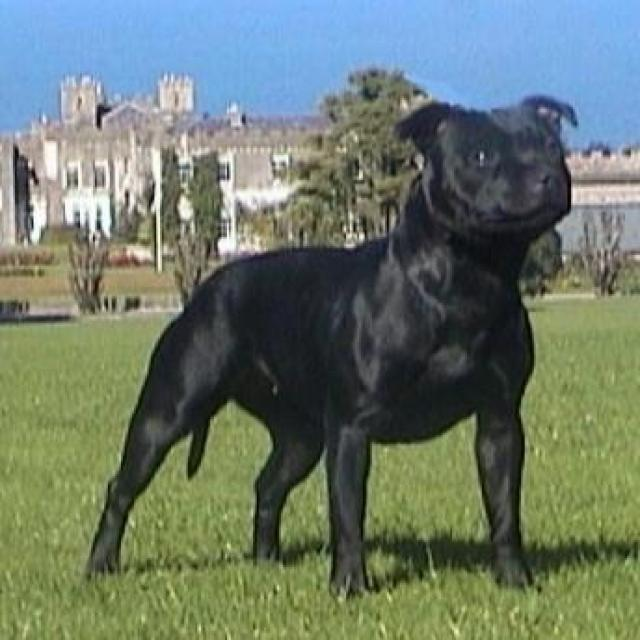staffordshire_bullterrier: (72, 86, 590, 618)
